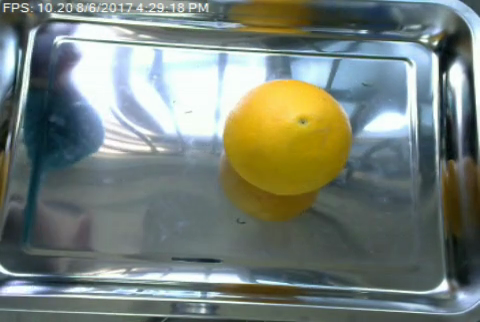Orange: (223, 77, 352, 198)
